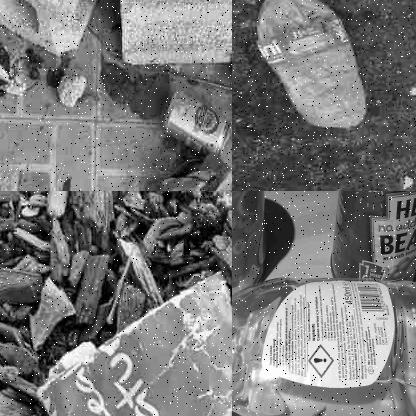metal: (329, 191, 415, 284), (159, 87, 231, 154)
plastic: (36, 273, 231, 415), (232, 278, 415, 415), (252, 0, 369, 130), (152, 155, 231, 190)
